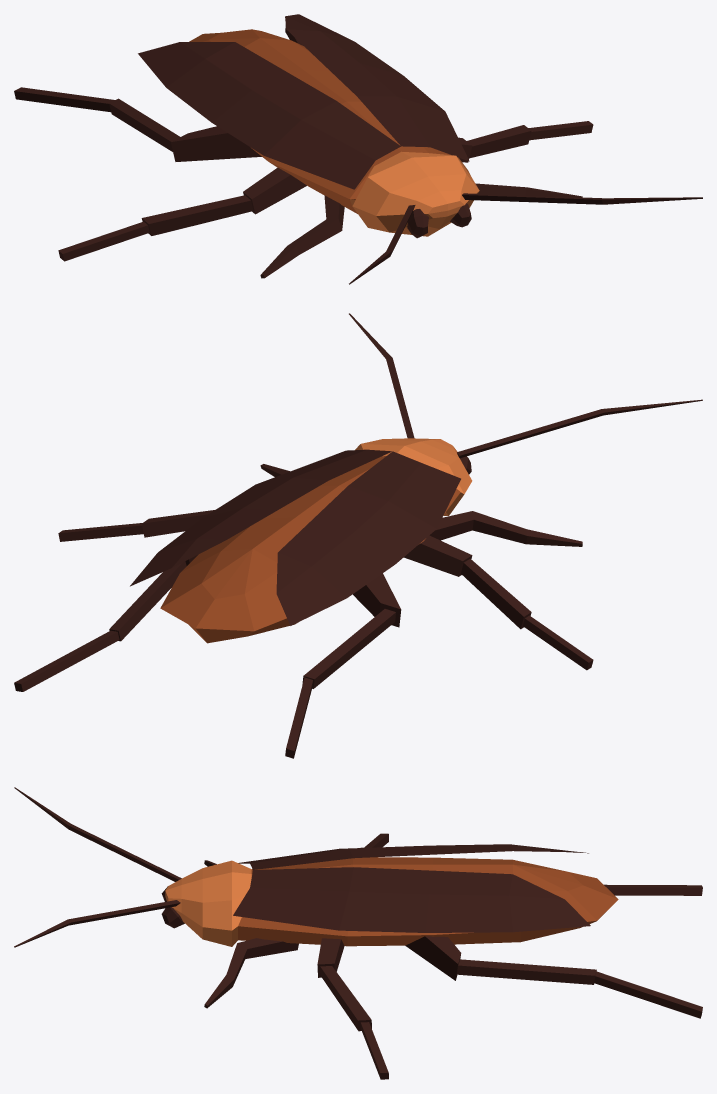
Rendered from cockroach.fbx.
The picture shows the model from 3 angles, top to bottom: view 1: azimuth 30°, elevation 25°; view 2: azimuth 150°, elevation 25°; view 3: azimuth 270°, elevation 25°; orthographic projection. The views are drawn at different scales.
Visible parts, largest first — view 1: cwing0, cwing1, chead, cbody, leg1b, leg2b, Mesh_Cockroach.002, leg1a, leg0b, leg0a; view 2: cwing0, cbody, cwing1, leg1b, leg2b, leg2a, Mesh_Cockroach.002, chead, leg0b, leg1a; view 3: cwing1, cbody, leg2a, chead, cwing0, Mesh_Cockroach.002, leg1a, leg0a, leg2b.
Boxes of the visible parts, left/top/right/bottom form: cwing0: left=138, top=42, right=400, bottom=189; cwing1: left=285, top=14, right=469, bottom=161; chead: left=349, top=151, right=479, bottom=236; cbody: left=189, top=29, right=465, bottom=213; leg1b: left=58, top=167, right=306, bottom=261; leg2b: left=14, top=87, right=261, bottom=161; Mesh_Cockroach.002: left=349, top=193, right=702, bottom=284; leg1a: left=458, top=121, right=593, bottom=162; leg0b: left=260, top=195, right=344, bottom=278; leg0a: left=475, top=183, right=582, bottom=197; cwing0: left=276, top=451, right=460, bottom=625; cbody: left=160, top=456, right=460, bottom=643; cwing1: left=130, top=449, right=391, bottom=586; leg1b: left=404, top=535, right=593, bottom=670; leg2b: left=285, top=573, right=401, bottom=758; leg2a: left=14, top=554, right=198, bottom=691; Mesh_Cockroach.002: left=349, top=313, right=702, bottom=474; chead: left=355, top=438, right=472, bottom=515; leg0b: left=429, top=511, right=582, bottom=546; leg1a: left=58, top=510, right=214, bottom=541; cwing1: left=233, top=867, right=590, bottom=932; cbody: left=238, top=857, right=618, bottom=946; leg2a: left=405, top=936, right=702, bottom=1018; chead: left=165, top=860, right=251, bottom=946; cwing0: left=238, top=844, right=588, bottom=869; Mesh_Cockroach.002: left=14, top=787, right=184, bottom=947; leg1a: left=317, top=938, right=388, bottom=1079; leg0a: left=204, top=938, right=298, bottom=1008; leg2b: left=604, top=884, right=702, bottom=895.
Size of the model in its own units: 657 by 128 by 800.
